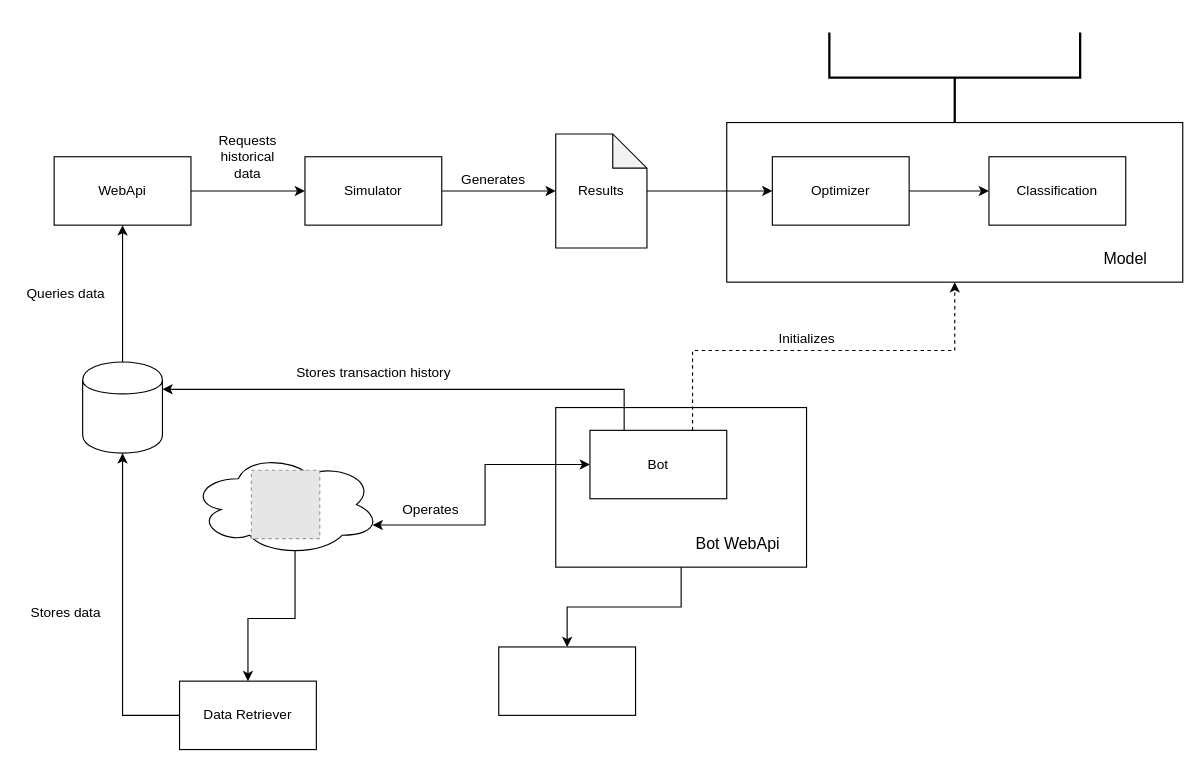
The diagram is 1203 pixels wide and 770 high, and some of its shapes have lost their labels. Grey dashed boxes stand in for pictures. The shapes that lost their labels are listed below. From the top down, each one's centre as x and y in pixels, then its label:
At [954,77]: "Preprocess, tune, fit, evaluate and compare".
At [122,407]: "MongoDB Database".
At [567,680]: "Bot UI".
